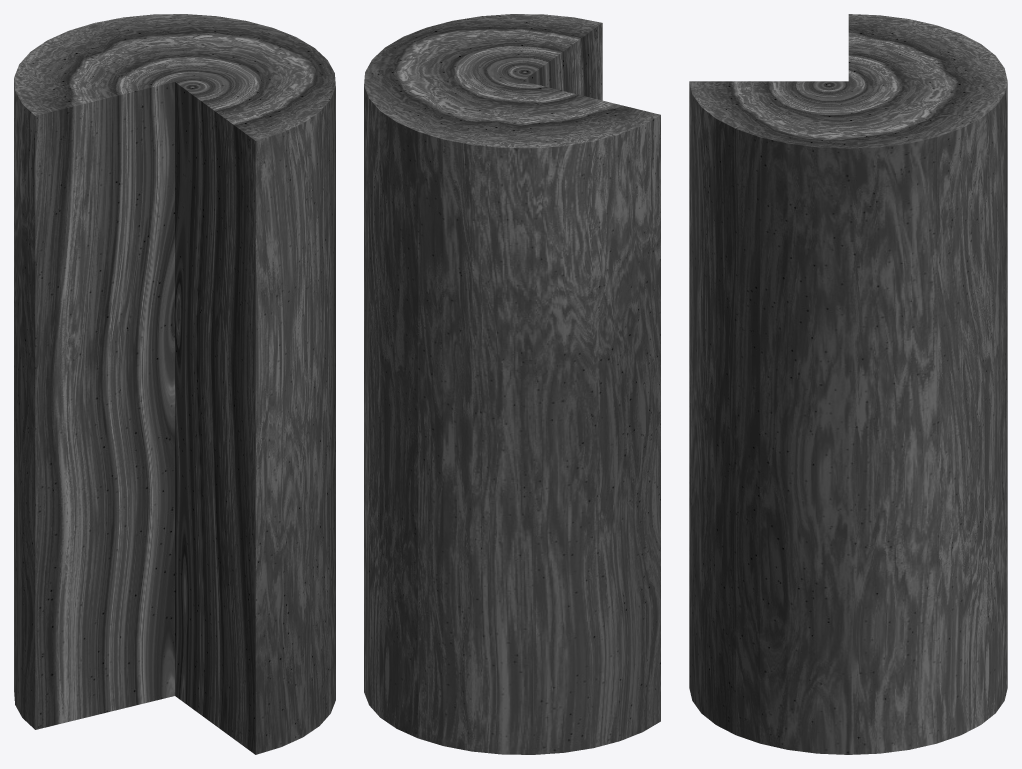
The model's file is woodTest1.glb.
The picture shows the model from 3 angles, left to right: view 1: azimuth 30°, elevation 25°; view 2: azimuth 150°, elevation 25°; view 3: azimuth 270°, elevation 25°; orthographic projection.
Visible parts, largest first — view 1: Cylinder; view 2: Cylinder; view 3: Cylinder.
Boxes of the visible parts, left/top/right/bottom form: Cylinder: left=14, top=14, right=335, bottom=754; Cylinder: left=364, top=14, right=660, bottom=754; Cylinder: left=689, top=14, right=1007, bottom=754.
Bounding box in the file's own units: 2 × 4.2 × 2.
1 material, 1 textured.
